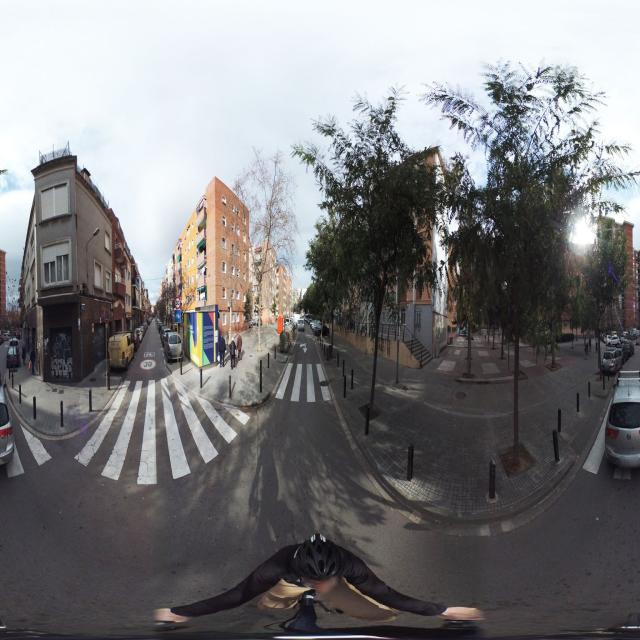forb_stopping: (105, 307, 109, 324)
